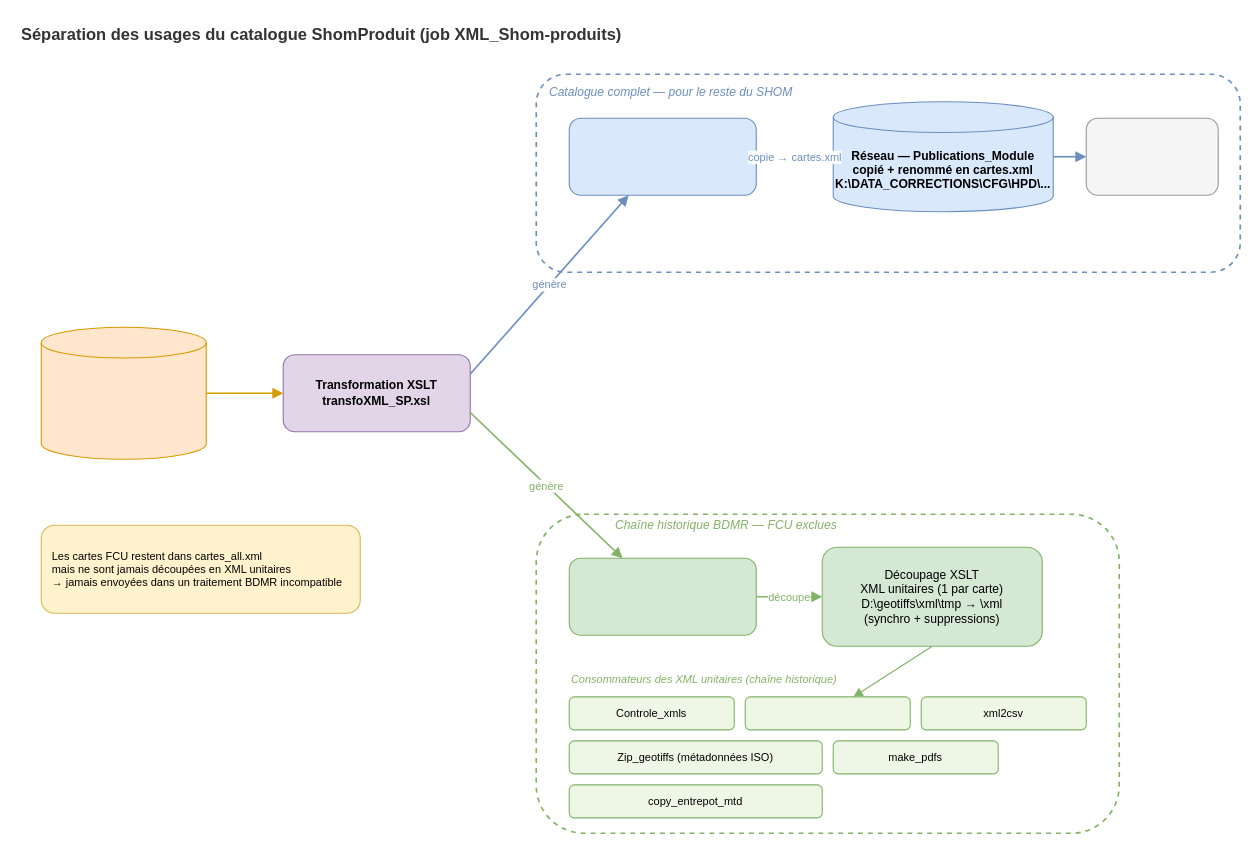
This 1260x853 diagram has some shape labels left out. The shapes that lost their labels are listed below. From the top down, each one's centre as x and y in pixels, then its label:
point 662,156: cartes_all.xml (FCU + non-FCU) D:\Shom_Produits\all\
point 1151,156: Autres briques du SHOM (module HPD / publication)
point 123,392: XML ShomProduit complet cartes_SP.xml (FCU + non-FCU)
point 662,596: cartes.xml (non-FCU uniquement) D:\Shom_Produits\
point 827,713: Xml_cadre
